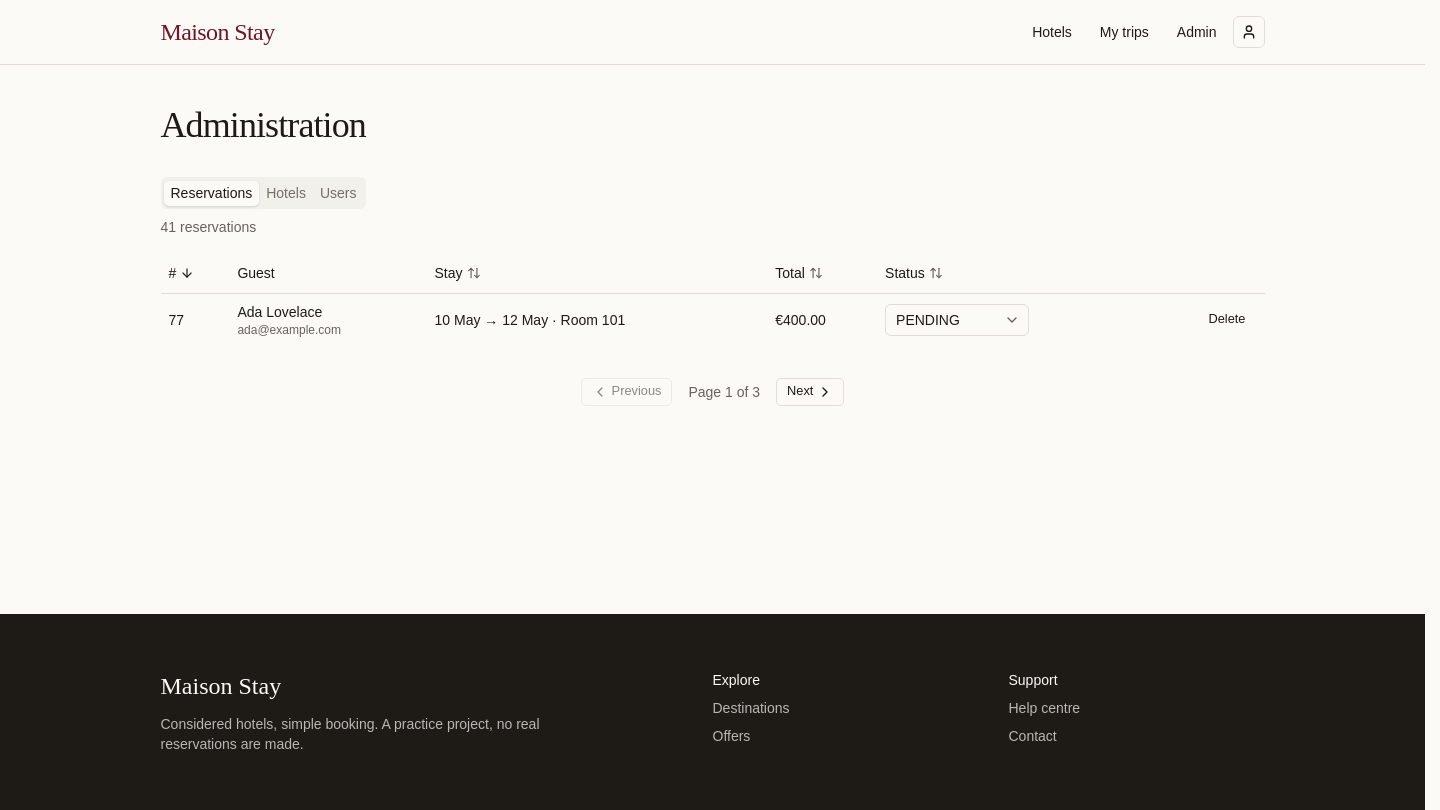
Test: admin reservations table › pages and sorts on the server
Check: the text "41 reservations" is shown, box [160, 219, 256, 235]
Click the button "Next".
click(810, 392)  # box [776, 378, 844, 406]
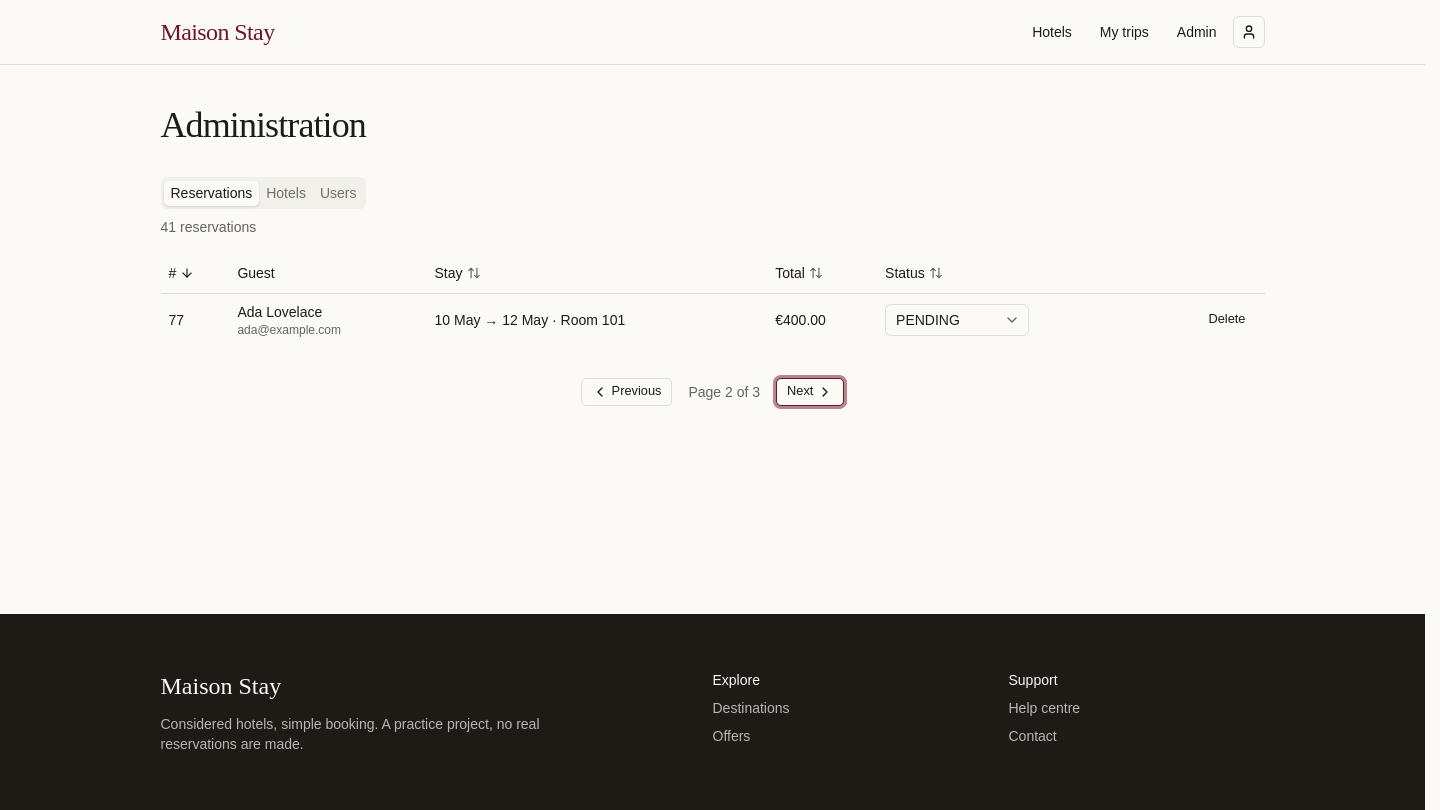
Check: the text "Page 2 of 3" is shown, box [688, 382, 760, 402]
Click the button "Total".
click(799, 273)  # box [775, 263, 823, 283]
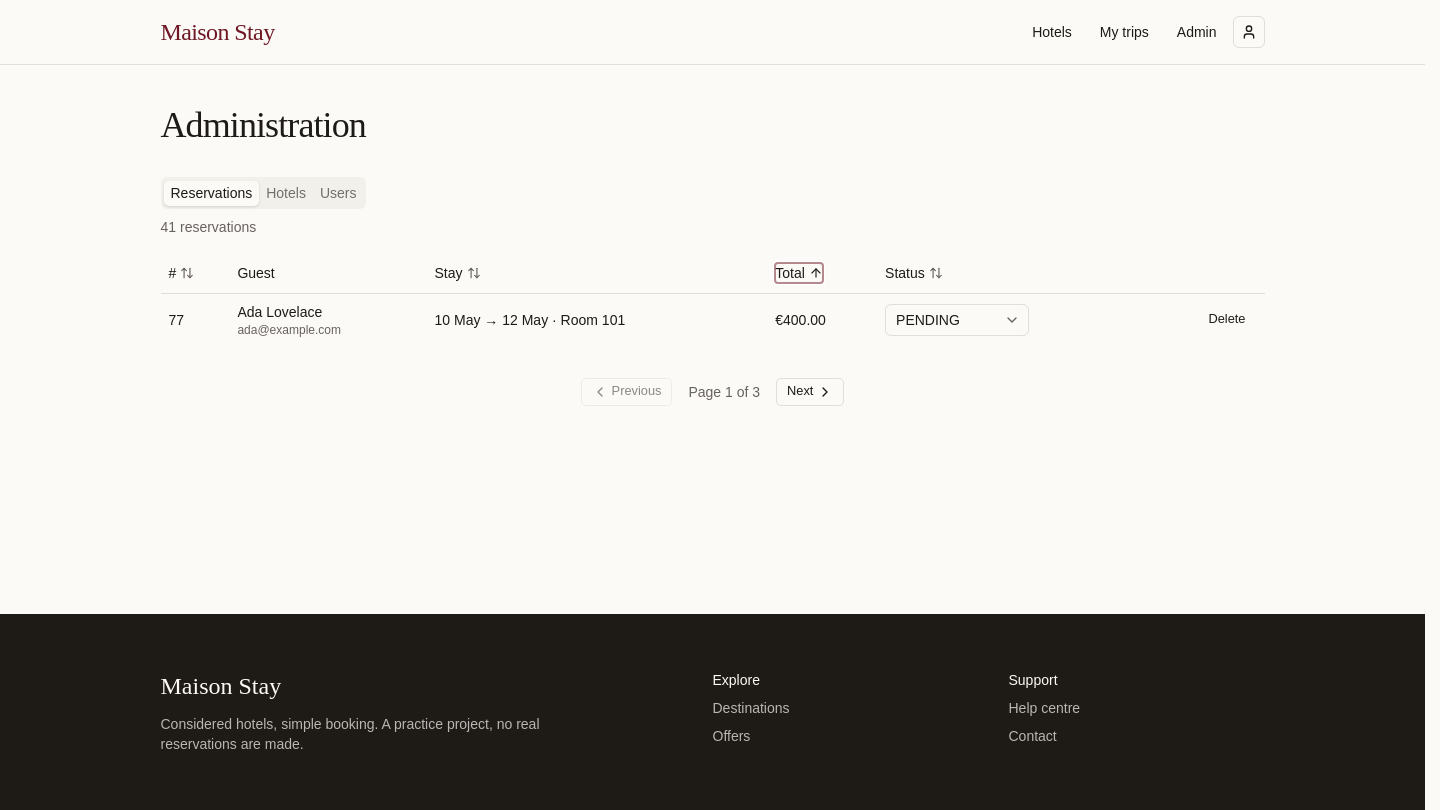
Check: the text "Page 1 of 3" is shown, box [688, 382, 760, 402]
